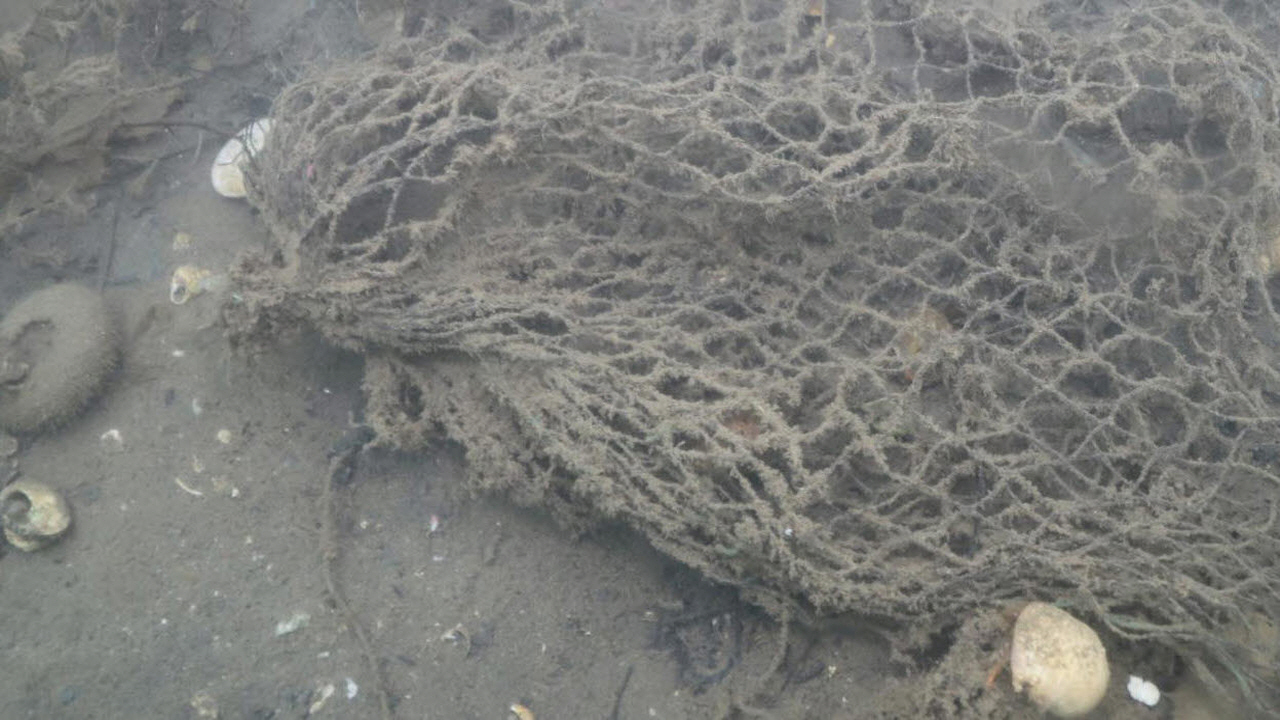fish net: (239, 4, 1280, 720)
